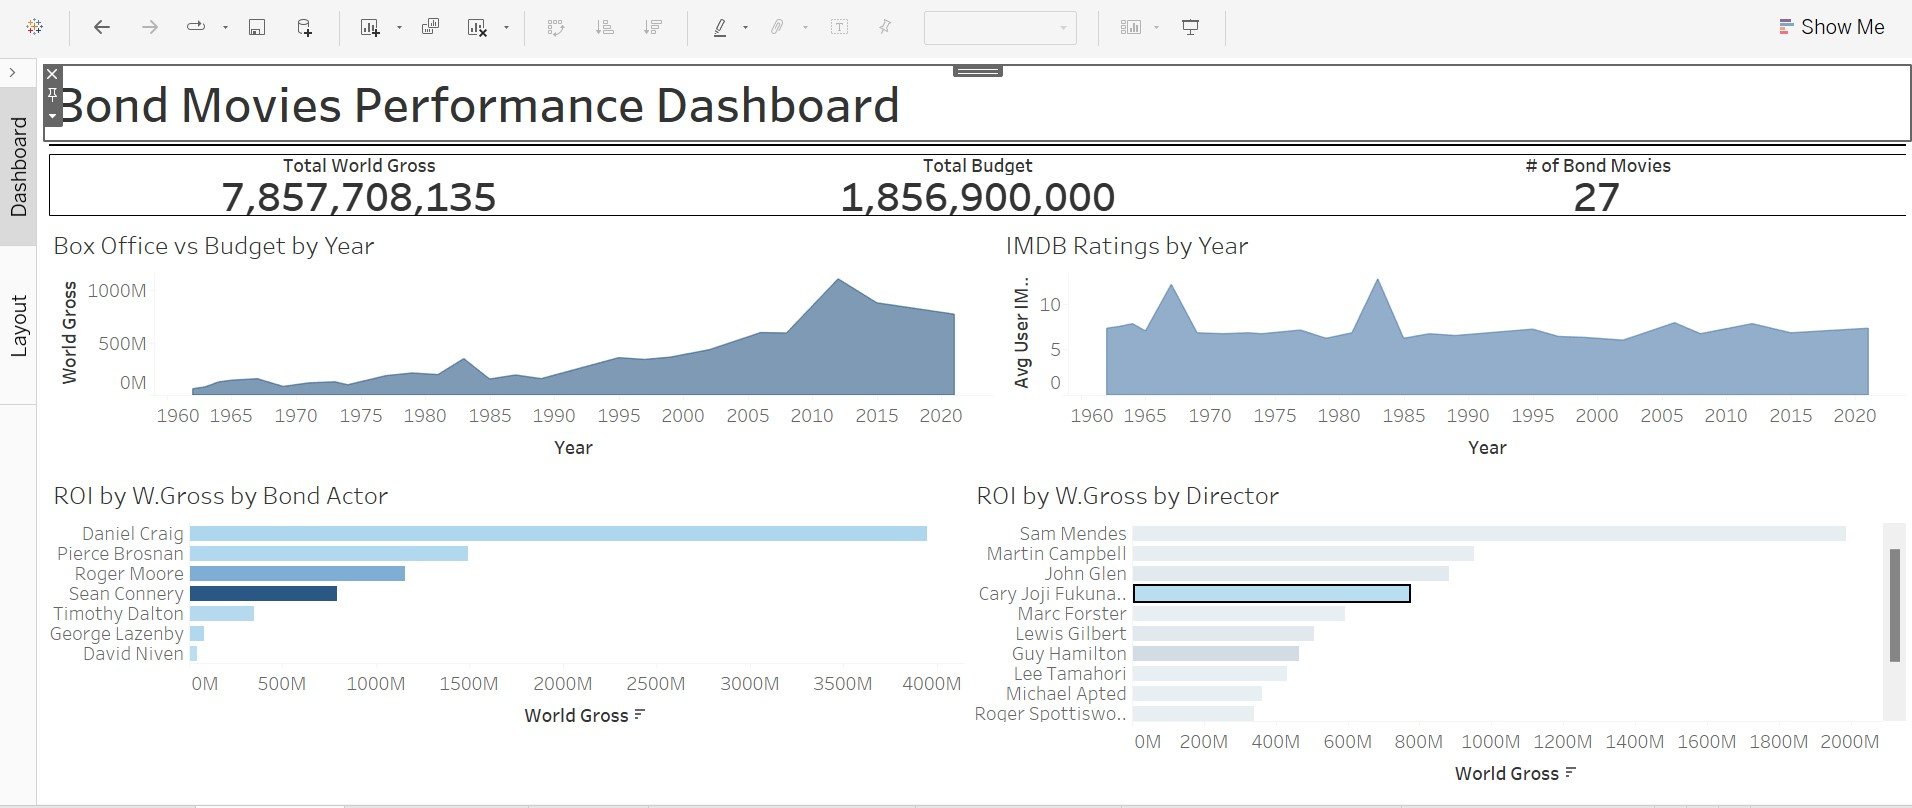

The dashboard page shown, as its layout file describes it:
{"tool":"tableau","page":{"name":"Dashboard 1","canvas":[1000,1000],"units":"permille","ordinal":0},"visuals":[{"type":"title","box":[6.7,10.7,986.7,99.1]},{"type":"blank","box":[6.7,109.8,986.7,13.4]},{"type":"worksheet","title":"W.Gross by Budget","mark":"Automatic","box":[6.7,123.2,986.7,93.7]},{"type":"worksheet","title":"Box Office vs Budget by Year","mark":"Automatic","rows":["World_Gross "],"cols":["Year"],"box":[6.7,216.9,509.2,334.7]},{"type":"worksheet","title":"Ratings by Year","mark":"Area","rows":["Avg_User_IMDB"],"cols":["Year"],"box":[515.8,216.9,477.5,334.7]},{"type":"worksheet","title":"ROI by W.Gross by Bond Actor","mark":"Automatic","rows":["Bond"],"cols":["World_Gross "],"box":[6.7,551.5,485,437.8]},{"type":"worksheet","title":"ROI by W.Gross by Director","mark":"Automatic","rows":["Director"],"cols":["World_Gross "],"box":[491.7,551.5,501.7,437.8]}]}

Visuals, with their boxes on the dashboard's canvas, which has no fixed pixel size, in thousandths of its width and height (x1, y1, x2, y2). These are canvas units, not pixel positions in the 1912x808 screenshot, which may show the page scaled, cropped or inside an application window:
title: Rect(7, 11, 993, 110)
blank: Rect(7, 110, 993, 123)
"W.Gross by Budget" worksheet: Rect(7, 123, 993, 217)
"Box Office vs Budget by Year" worksheet: Rect(7, 217, 516, 552)
"Ratings by Year" worksheet (Area marks): Rect(516, 217, 993, 552)
"ROI by W.Gross by Bond Actor" worksheet: Rect(7, 552, 492, 989)
"ROI by W.Gross by Director" worksheet: Rect(492, 552, 993, 989)
